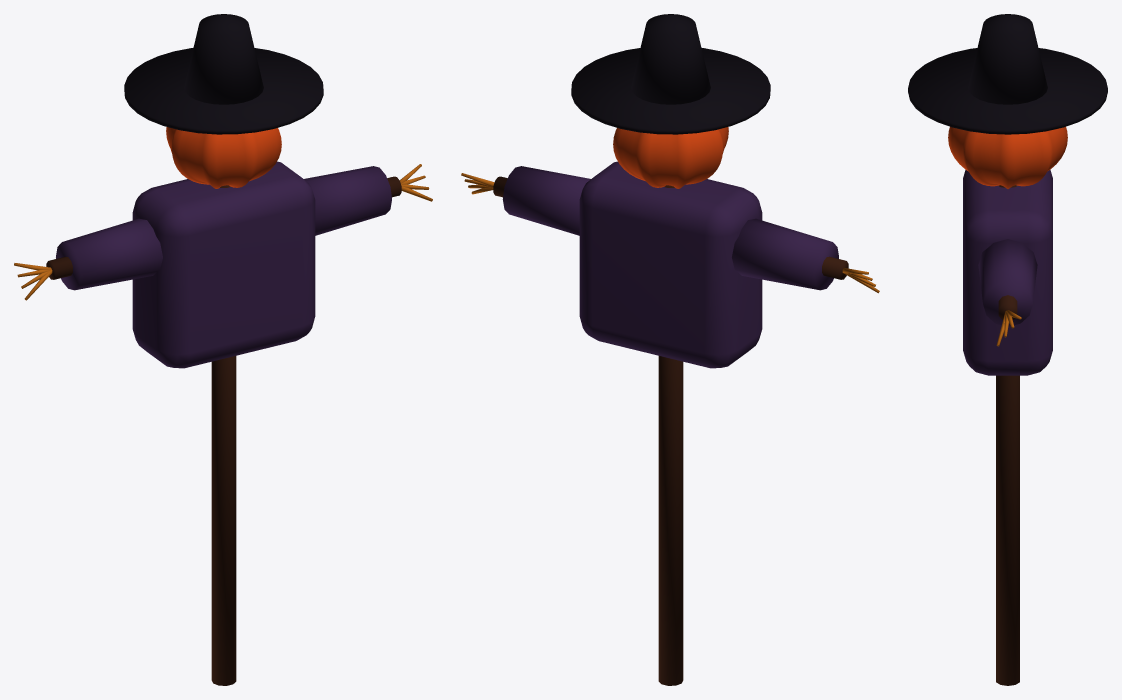
The model's file is scarecrow.obj.
3 views of the same model, side by side, from view 1: azimuth 30°, elevation 25°; view 2: azimuth 150°, elevation 25°; view 3: azimuth 270°, elevation 25° (orthographic).
Visible parts, largest first — view 1: LH_scarecrow; view 2: LH_scarecrow; view 3: LH_scarecrow.
Part boxes in pixels (x1,y1,x2,y2): LH_scarecrow: (14, 14, 432, 685); LH_scarecrow: (461, 14, 879, 685); LH_scarecrow: (908, 14, 1107, 685).
Bounding box in the file's own units: 0.943 × 1.47 × 0.4.
